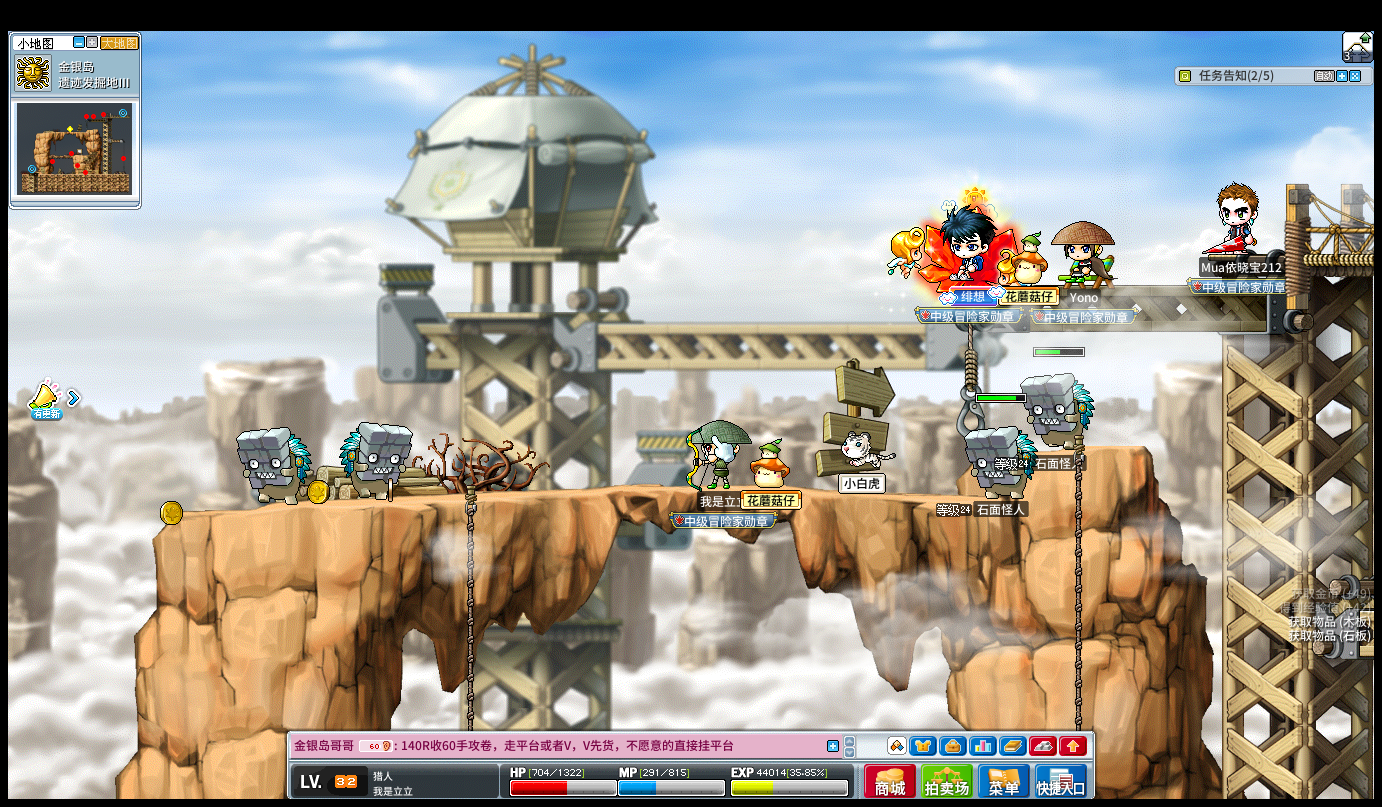floor: (166, 478, 978, 513), (187, 480, 1062, 508), (1011, 442, 1148, 456)
monster: (235, 425, 311, 507), (339, 421, 412, 502), (1023, 372, 1096, 448), (964, 424, 1034, 498)
rope: (1070, 445, 1085, 720), (462, 483, 476, 683)
